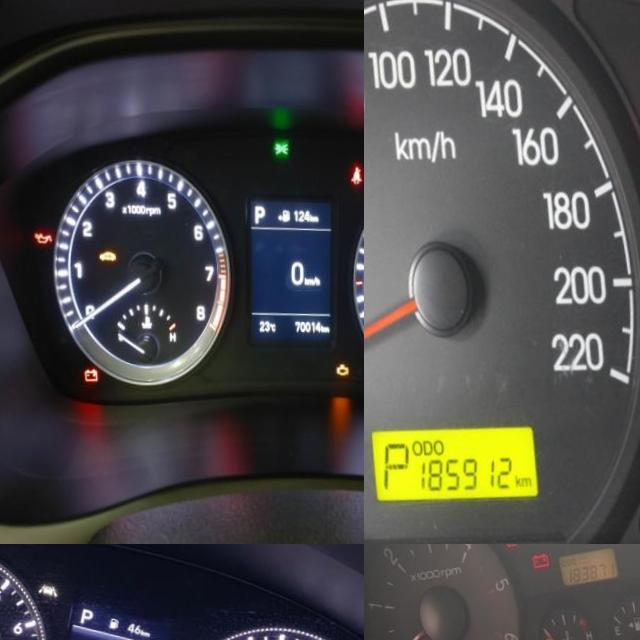SideLamp: (273, 137, 289, 151)
